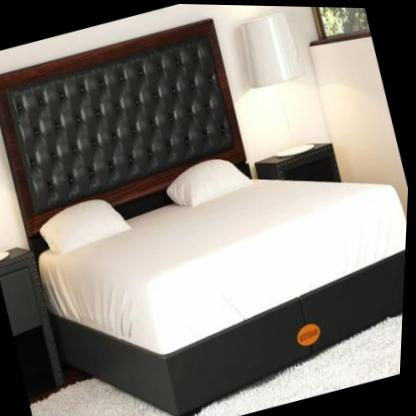Bed: (0, 0, 416, 416)
Lamp: (227, 4, 328, 162), (0, 94, 28, 262)
Nightstand: (0, 249, 70, 395), (252, 127, 363, 206)
